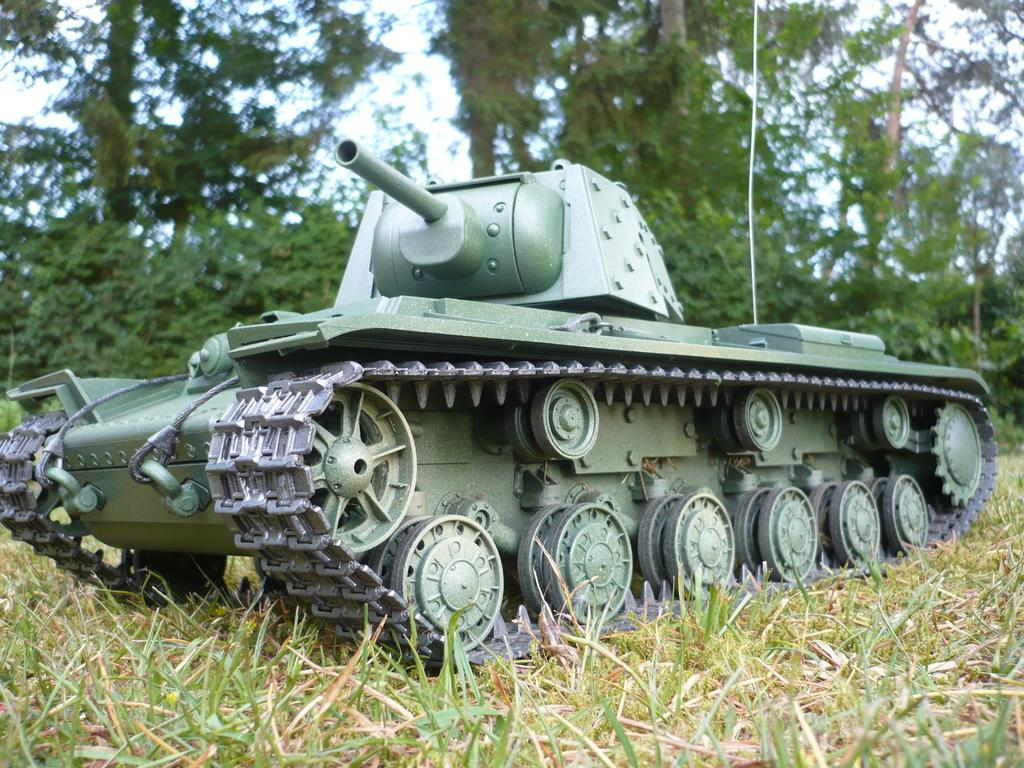Tank: (0, 0, 1000, 676)
